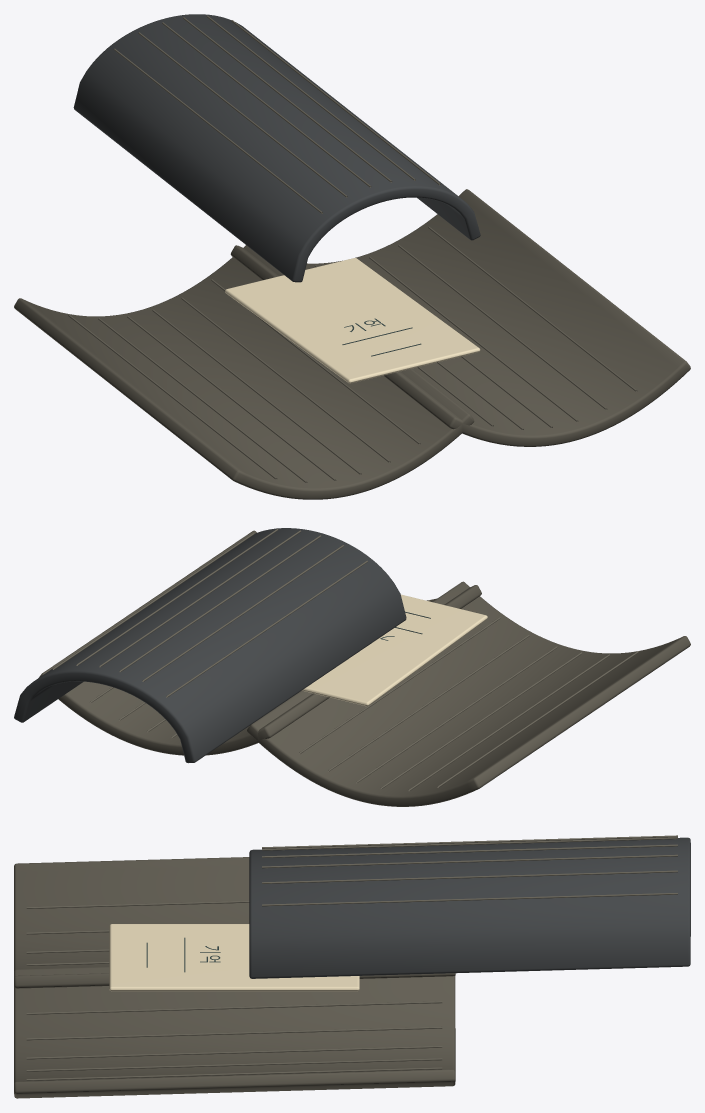
3 views of the same model, one above another, from view 1: azimuth 30°, elevation 25°; view 2: azimuth 150°, elevation 25°; view 3: azimuth 270°, elevation 25° (orthographic). The views are drawn at different scales.
Parts seen in each view (by area): view 1: Convex cylindrical cover tile, Left concave pan tile, Right concave pan tile, Memory card; view 2: Convex cylindrical cover tile, Left concave pan tile, Memory card, Right concave pan tile, Paddled track.013, Paddled track.001, Paddled track.005, Paddled track.016, Paddled track.017, Paddled track, Paddled track.014, Paddled track.015 (+4 smaller); view 3: Convex cylindrical cover tile, Right concave pan tile, Left concave pan tile, Memory card, Paddled track.006, Paddled track.013, Paddled track.009, Paddled track.010, Paddled track.008, Paddled track.016, Paddled track.014, Paddled track.017 (+4 smaller).
Boxes of the visible parts, bbox=[...] form: Convex cylindrical cover tile: bbox=[73, 14, 480, 282]; Left concave pan tile: bbox=[14, 245, 474, 499]; Right concave pan tile: bbox=[230, 189, 690, 446]; Memory card: bbox=[225, 258, 480, 383]; Convex cylindrical cover tile: bbox=[14, 528, 406, 763]; Left concave pan tile: bbox=[247, 581, 690, 806]; Memory card: bbox=[302, 594, 487, 706]; Right concave pan tile: bbox=[39, 530, 481, 755]; Paddled track.013: bbox=[142, 545, 343, 681]; Paddled track.001: bbox=[408, 654, 610, 791]; Paddled track.005: bbox=[299, 617, 500, 754]; Paddled track.016: bbox=[76, 529, 278, 665]; Paddled track.017: bbox=[52, 533, 254, 669]; Paddled track: bbox=[437, 651, 639, 787]; Paddled track.014: bbox=[119, 535, 321, 672]; Paddled track.015: bbox=[99, 530, 301, 667]; Convex cylindrical cover tile: bbox=[249, 837, 690, 978]; Right concave pan tile: bbox=[14, 966, 455, 1098]; Left concave pan tile: bbox=[14, 857, 455, 988]; Memory card: bbox=[109, 924, 359, 991]; Paddled track.006: bbox=[26, 1001, 442, 1014]; Paddled track.013: bbox=[262, 837, 677, 850]; Paddled track.009: bbox=[26, 1058, 442, 1071]; Paddled track.010: bbox=[26, 1067, 442, 1080]; Paddled track.008: bbox=[26, 1046, 442, 1059]; Paddled track.016: bbox=[262, 870, 677, 883]; Paddled track.014: bbox=[262, 844, 677, 857]; Paddled track.017: bbox=[262, 893, 677, 906].
Size of the model in its own units: 0.2347 by 0.0961 by 0.3.
